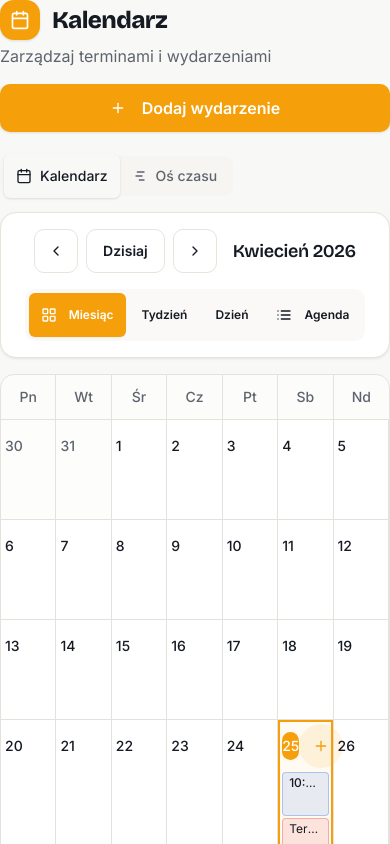
Test: Calendar › [REGRESSION] add new event — no crash › should render title input in the event dialog
Click the button "Dodaj wydarzenie" at (195, 108), box left=0, top=84, right=389, bottom=132
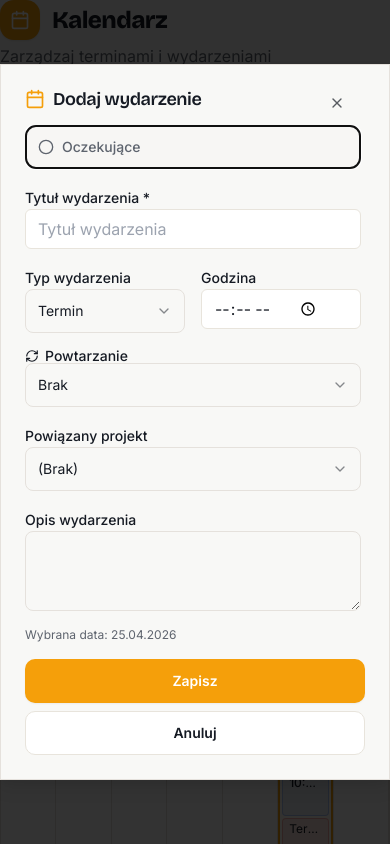
Expected: the dialog is shown
Expected: the field with placeholder "Tytuł wydarzenia" is shown, left=25, top=209, right=361, bottom=249
